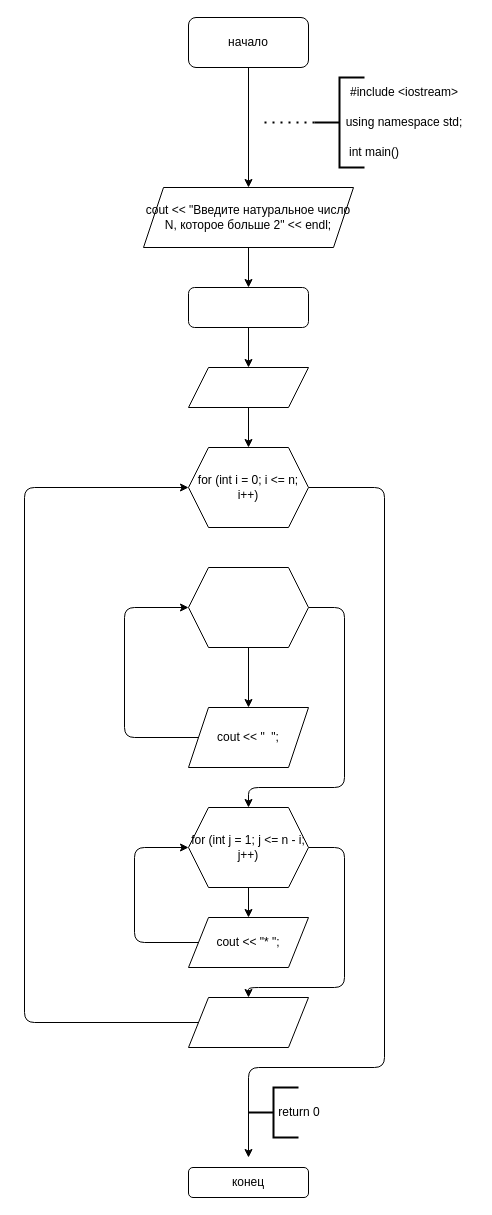
Some shapes in this 492 by 1215 pixel diagram are drawn without their labels. Each missing label, with the centre of its shape:
"cin >> n;" belongs at pixel 248 387.
"cout << endl;" belongs at pixel 248 1022.
"for (int j = 1; j <= i; j++)" belongs at pixel 248 607.
"int n;" belongs at pixel 248 307.
